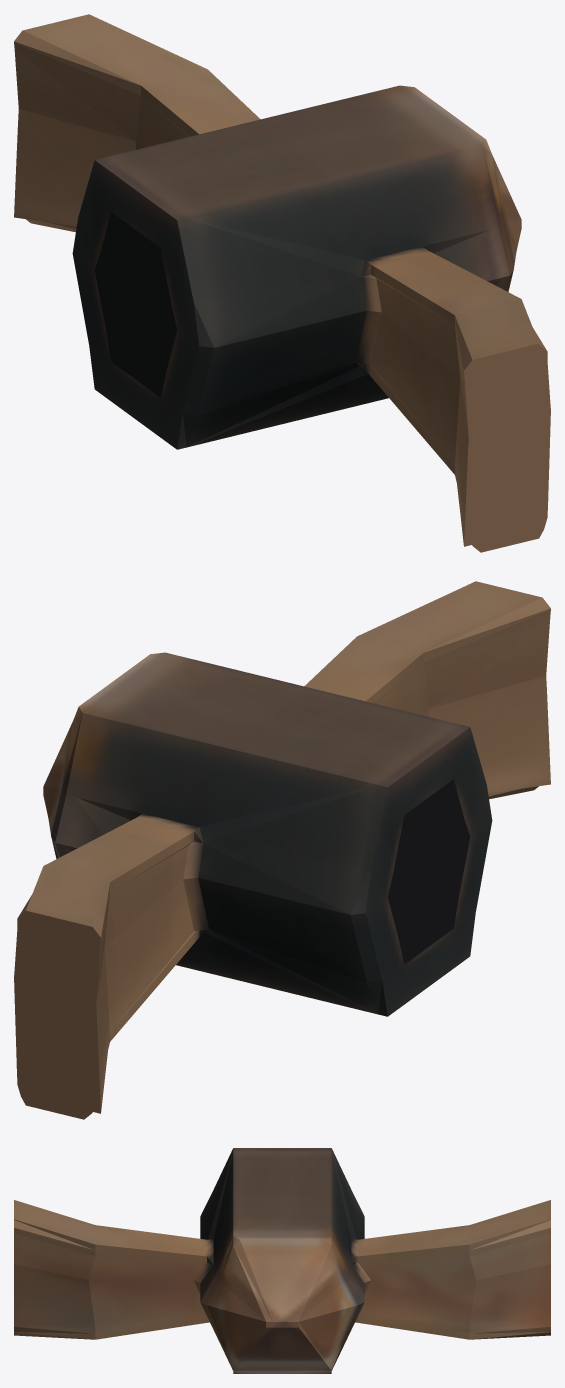
The model's file is plane_prop.glb.
3 views of the same model, one above another, from view 1: azimuth 30°, elevation 25°; view 2: azimuth 150°, elevation 25°; view 3: azimuth 270°, elevation 25° (orthographic). The views are drawn at different scales.
Visible parts, largest first — view 1: plane_prop; view 2: plane_prop; view 3: plane_prop.
Part boxes in pixels (<box>): plane_prop: <box>14,14,550,552</box>; plane_prop: <box>14,581,550,1119</box>; plane_prop: <box>14,1148,550,1373</box>.
Size of the model in its own units: 0.0763 by 0.045 by 0.16.
Materials: 1 (1 with a texture image).
